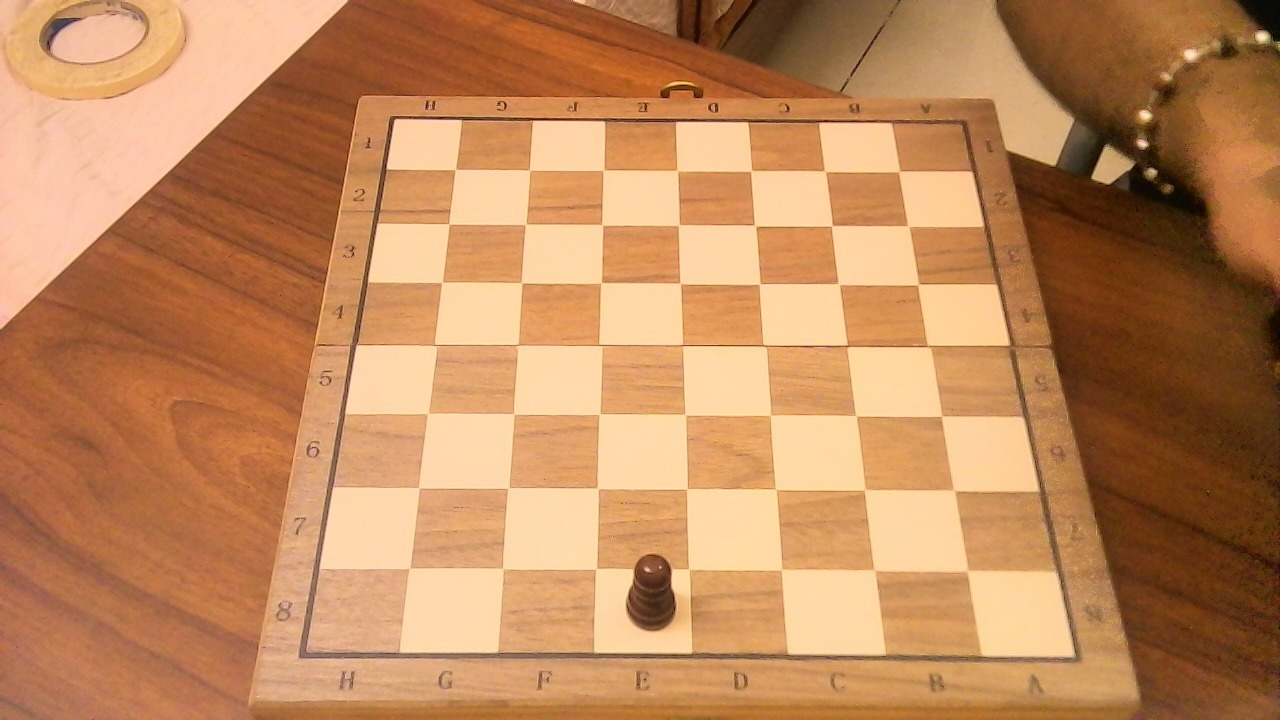p: (619, 548, 692, 638)
